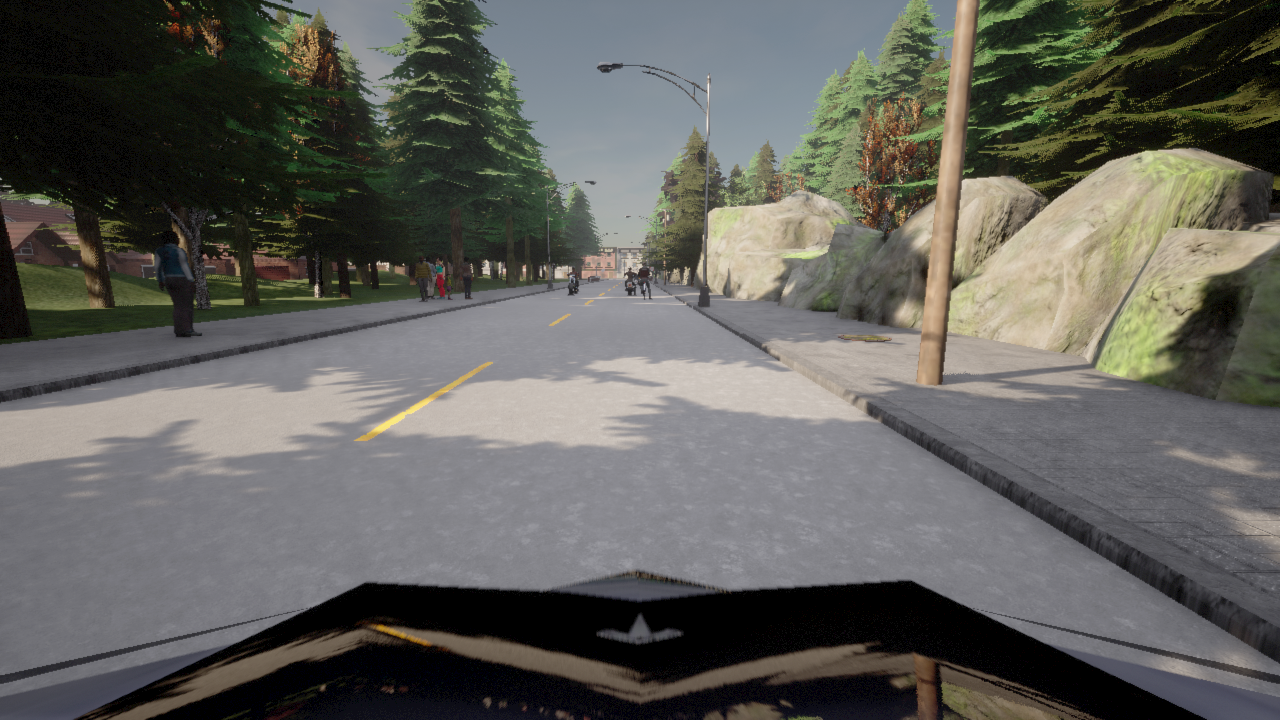cyclist: (0, 569, 1279, 719), (567, 272, 578, 294), (626, 280, 633, 294), (641, 282, 645, 299), (634, 279, 637, 284), (639, 276, 640, 280)
pedestrian: (153, 230, 201, 336), (415, 255, 431, 301), (460, 257, 472, 298), (425, 257, 436, 298), (435, 257, 444, 298), (446, 273, 452, 299)
